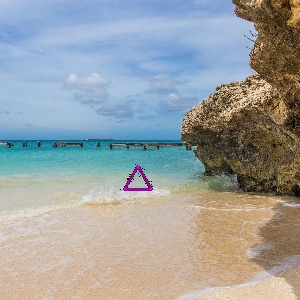triangle: (119, 162, 156, 194)
